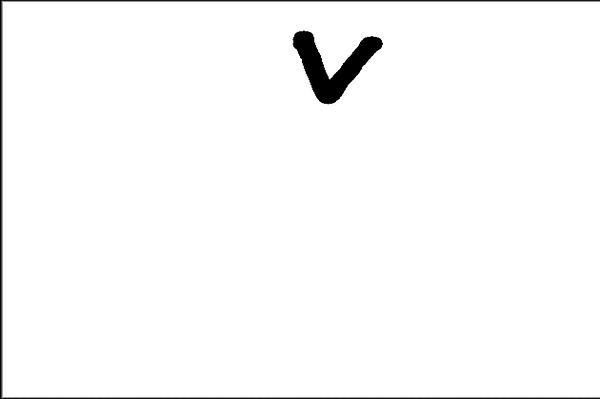V: (285, 20, 388, 113)
